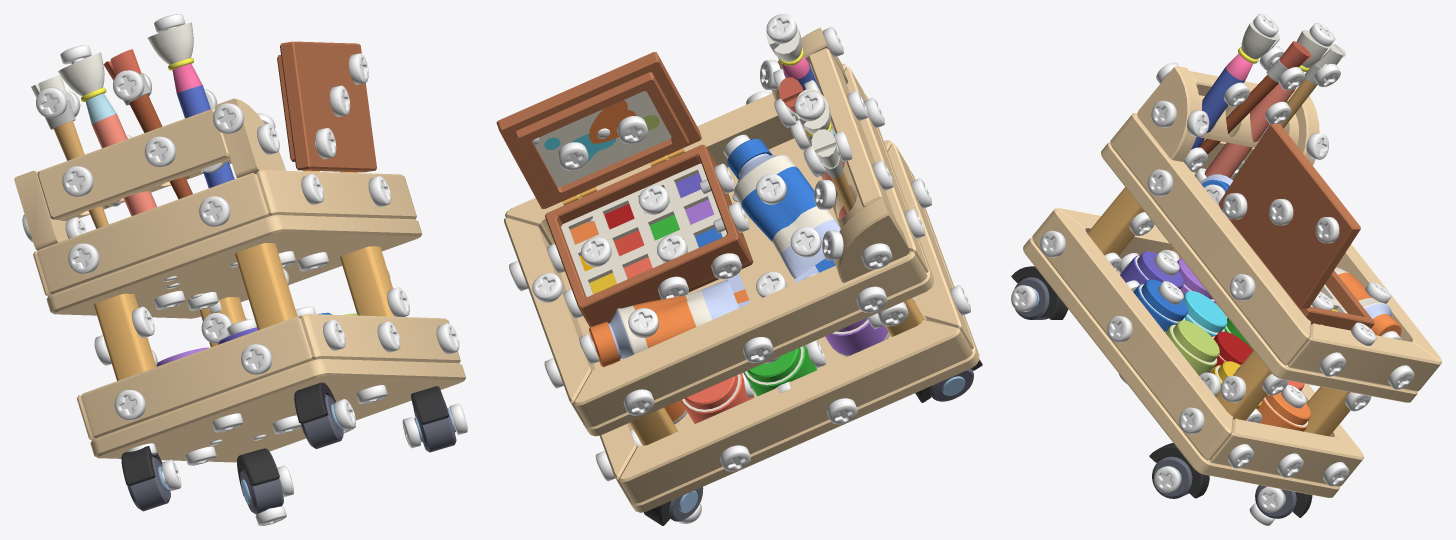
The model's file is PaintingCart.fbx.
3 renders of one model, left to right at view 1: azimuth 30°, elevation 25°; view 2: azimuth 150°, elevation 25°; view 3: azimuth 270°, elevation 25°, orthographic. The views are drawn at different scales.
Visible parts, largest first — view 1: PaintingCart_038, PaintingCart_033, Screw (×22), PaintingCart_016, PaintingCart_036, PaintingCart_041, PaintingCart_006, PaintingCart_035, PaintingCart_032, PaintingCart_005, PaintingCart_040, PaintingCart_013 (+9 smaller); view 2: PaintingCart_039, PaintingCart_016, PaintingCart_034, Screw (×21), PaintingCart_017, PaintingCart_033, PaintingCart_007, PaintingCart_002, PaintingCart_042, PaintingCart_038, PaintingCart_035, PaintingCart_020 (+18 smaller); view 3: PaintingCart_016, PaintingCart_035, PaintingCart_040, Screw (×15), PaintingCart_038, PaintingCart_033, PaintingCart_042, PaintingCart_005, PaintingCart_037, PaintingCart_032, PaintingCart_004, PaintingCart_013 (+20 smaller).
Boxes of the visible parts, left/top/right/bottom form: PaintingCart_038: left=90, top=359, right=465, bottom=462; PaintingCart_033: left=46, top=215, right=421, bottom=318; Screw (×22): left=36, top=53, right=459, bottom=430; PaintingCart_016: left=277, top=41, right=376, bottom=172; PaintingCart_036: left=37, top=173, right=268, bottom=294; PaintingCart_041: left=81, top=316, right=311, bottom=438; PaintingCart_006: left=37, top=108, right=230, bottom=219; PaintingCart_035: left=255, top=170, right=416, bottom=219; PaintingCart_032: left=31, top=52, right=161, bottom=228; PaintingCart_005: left=103, top=22, right=234, bottom=199; PaintingCart_040: left=298, top=314, right=460, bottom=363; PaintingCart_013: left=235, top=243, right=297, bottom=330; PaintingCart_039: left=619, top=319, right=972, bottom=503; PaintingCart_016: left=496, top=52, right=701, bottom=208; PaintingCart_034: left=574, top=251, right=927, bottom=427; Screw (×21): left=532, top=14, right=892, bottom=471; PaintingCart_017: left=561, top=163, right=726, bottom=296; PaintingCart_033: left=560, top=92, right=933, bottom=436; PaintingCart_007: left=727, top=138, right=840, bottom=282; PaintingCart_002: left=589, top=274, right=750, bottom=367; PaintingCart_042: left=504, top=218, right=595, bottom=423; PaintingCart_038: left=628, top=168, right=979, bottom=512; PaintingCart_035: left=505, top=63, right=846, bottom=245; PaintingCart_020: left=580, top=234, right=749, bottom=326; PaintingCart_016: left=1218, top=123, right=1360, bottom=308; PaintingCart_035: left=1110, top=114, right=1311, bottom=365; PaintingCart_040: left=1032, top=209, right=1233, bottom=460; Screw (×15): left=1011, top=100, right=1339, bottom=512; PaintingCart_038: left=1023, top=238, right=1339, bottom=497; PaintingCart_033: left=1101, top=142, right=1417, bottom=402; PaintingCart_042: left=1288, top=323, right=1440, bottom=391; PaintingCart_005: left=1191, top=21, right=1311, bottom=154; PaintingCart_037: left=1210, top=418, right=1362, bottom=486; PaintingCart_032: left=1205, top=30, right=1346, bottom=180; PaintingCart_004: left=1137, top=66, right=1200, bottom=161; PaintingCart_013: left=1087, top=187, right=1144, bottom=255.
Size of the model in its own units: 8.94 by 11.63 by 9.74.
Materials: 3 (2 with a texture image).
